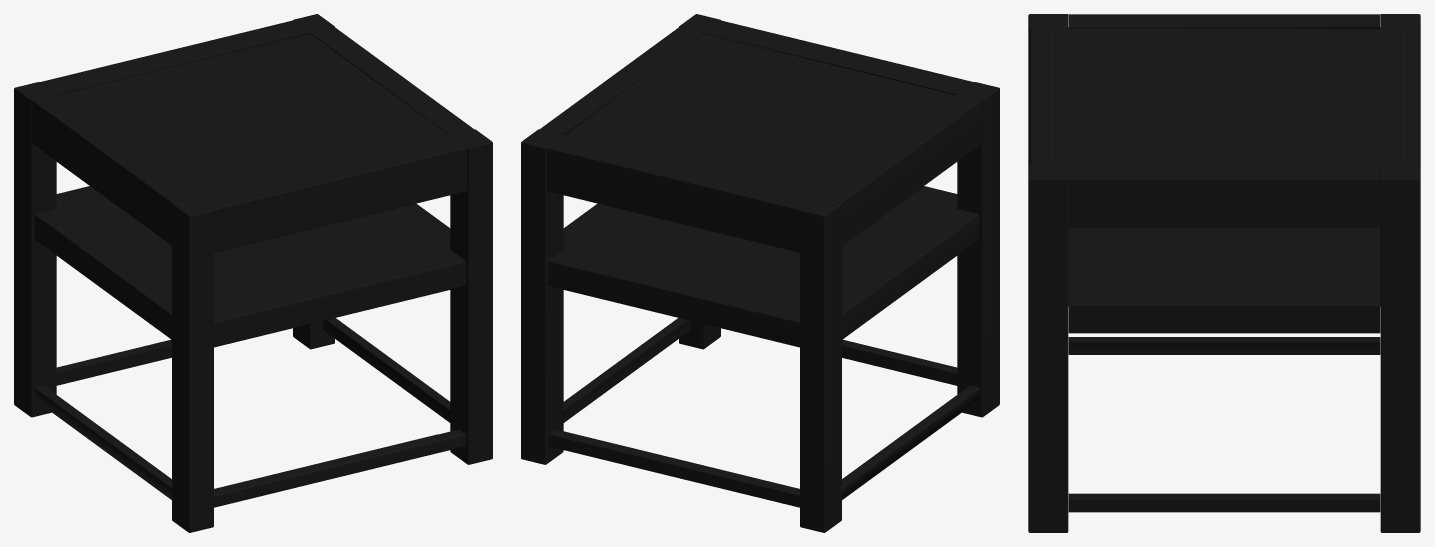
Rendered from Table.fbx.
The picture shows the model from 3 angles, left to right: view 1: azimuth 30°, elevation 25°; view 2: azimuth 150°, elevation 25°; view 3: azimuth 270°, elevation 25°; orthographic projection. The views are drawn at different scales.
Visible parts, largest first — view 1: Cutting Table; view 2: Cutting Table; view 3: Cutting Table.
Boxes of the visible parts, x1,y1,x2,y2 form: Cutting Table: [14, 14, 492, 532]; Cutting Table: [521, 14, 999, 532]; Cutting Table: [1028, 14, 1420, 532].
Size of the model in its own units: 200 by 199 by 200.
1 material, 1 textured.
